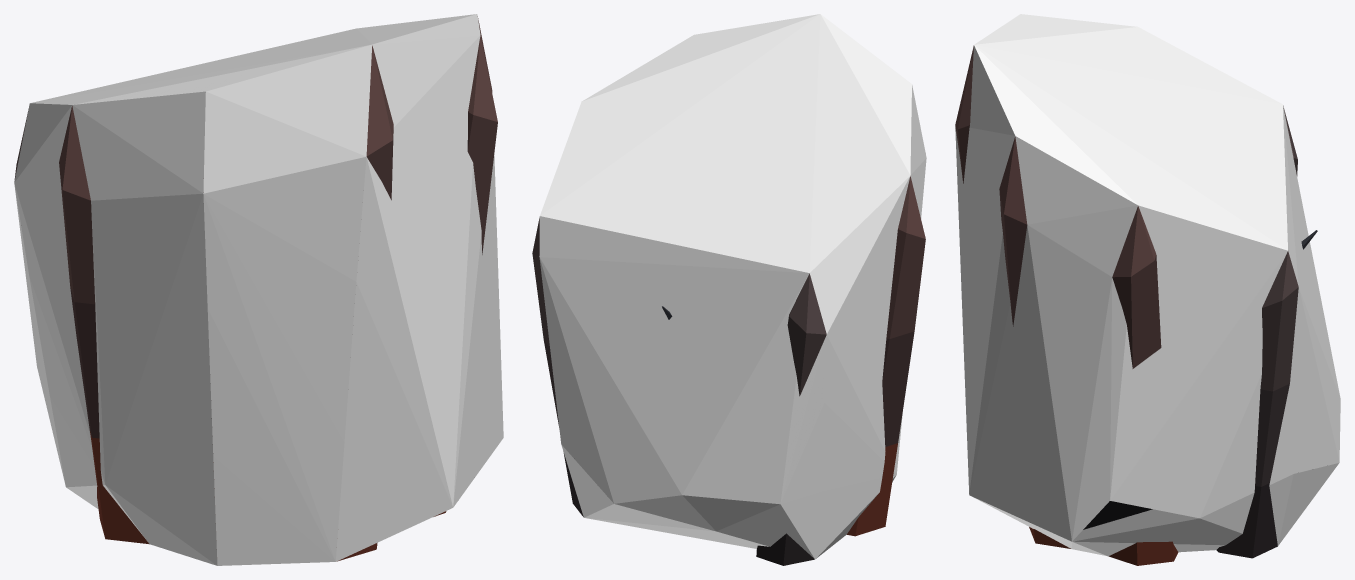
File: obsidian_lava_cauldron_shrine.glb
3 renders of one model, left to right at view 1: azimuth 30°, elevation 25°; view 2: azimuth 150°, elevation 25°; view 3: azimuth 270°, elevation 25°, orthographic. The views are drawn at different scales.
Parts seen in each view (by area): view 1: col_cauldron_shrine, ObsidianLavaCauldronShrine; view 2: col_cauldron_shrine, ObsidianLavaCauldronShrine; view 3: col_cauldron_shrine, ObsidianLavaCauldronShrine.
Part boxes in pixels (left/top/right/bottom): col_cauldron_shrine: left=14, top=14, right=503, bottom=565; ObsidianLavaCauldronShrine: left=14, top=16, right=497, bottom=561; col_cauldron_shrine: left=539, top=14, right=926, bottom=559; ObsidianLavaCauldronShrine: left=532, top=176, right=925, bottom=565; col_cauldron_shrine: left=955, top=14, right=1340, bottom=556; ObsidianLavaCauldronShrine: left=955, top=45, right=1317, bottom=565.
Bounding box in the file's own units: 6.9 × 7.98 × 6.16.
